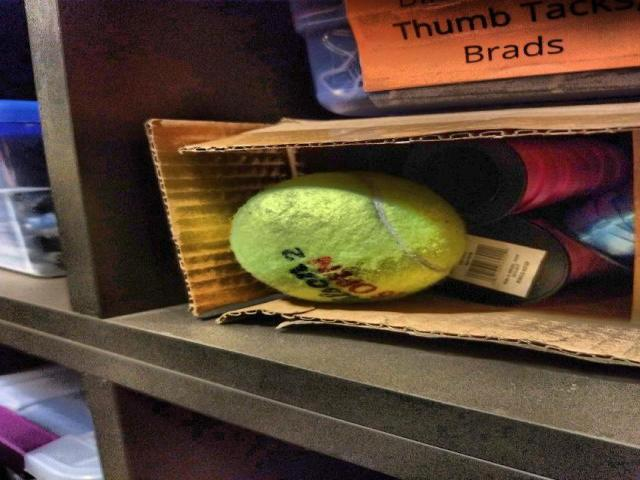tennis-ball: (228, 178, 469, 301)
